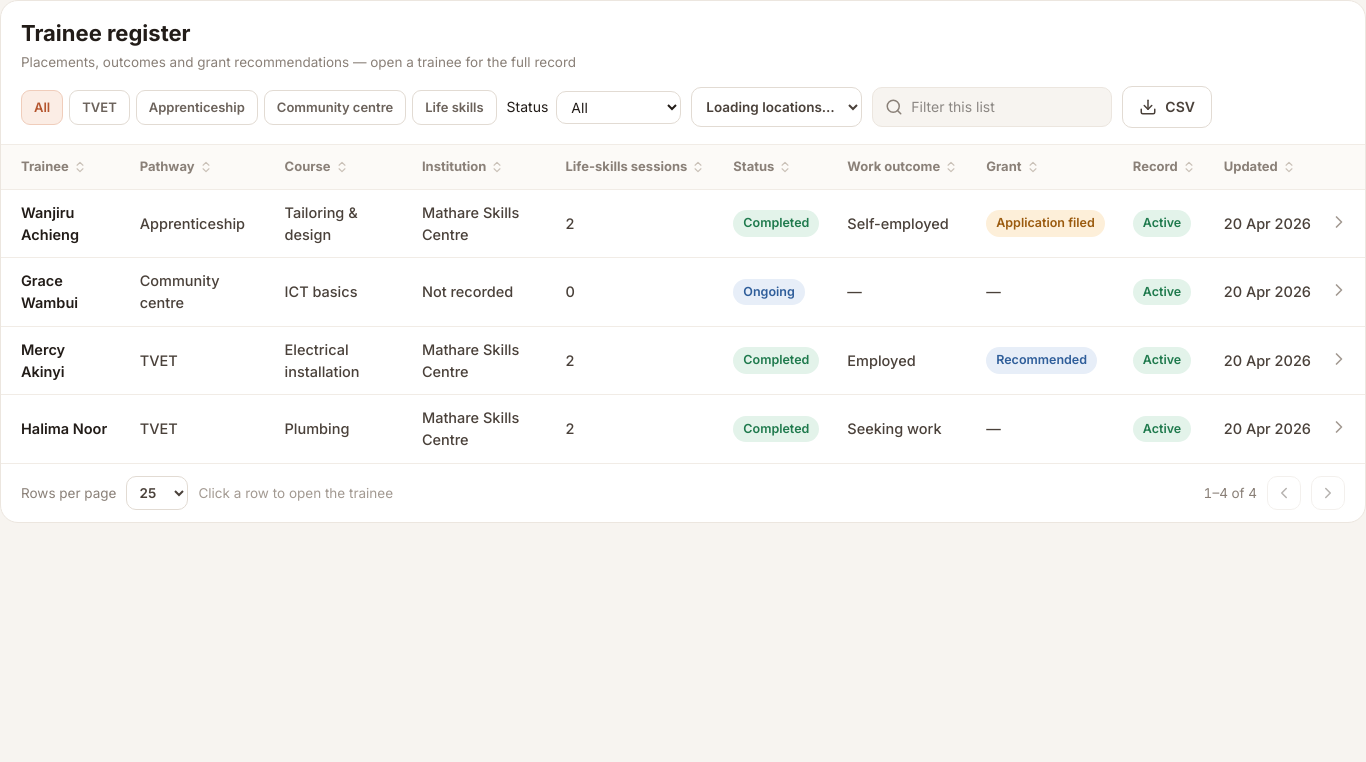
Test: trainee drawer › traces the hand-off and offers no recommend control once WEE accepted
Click the button named "Open Wanjiru Achieng" at (1339, 222), box [1327,210,1351,234]
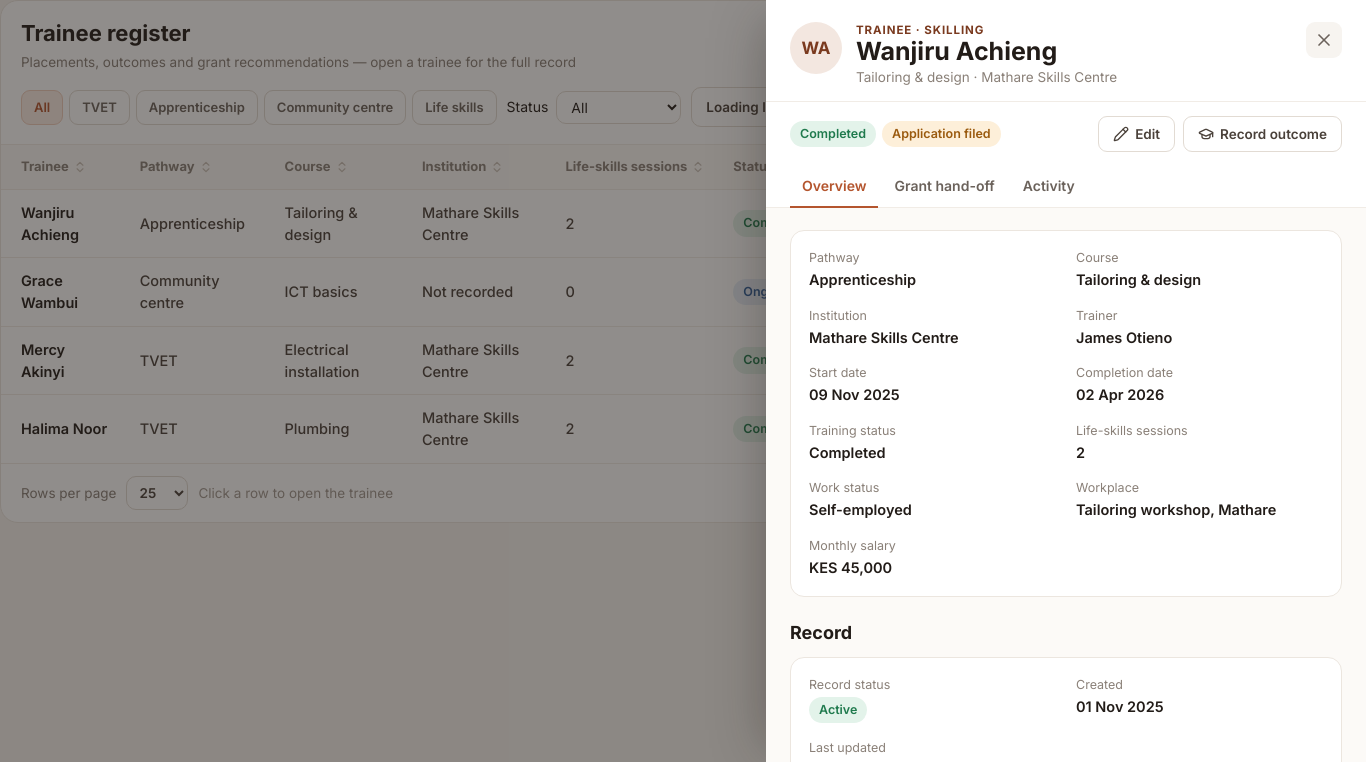
Click the tab "Grant hand-off" at (945, 187), box [882,166,1007,208]
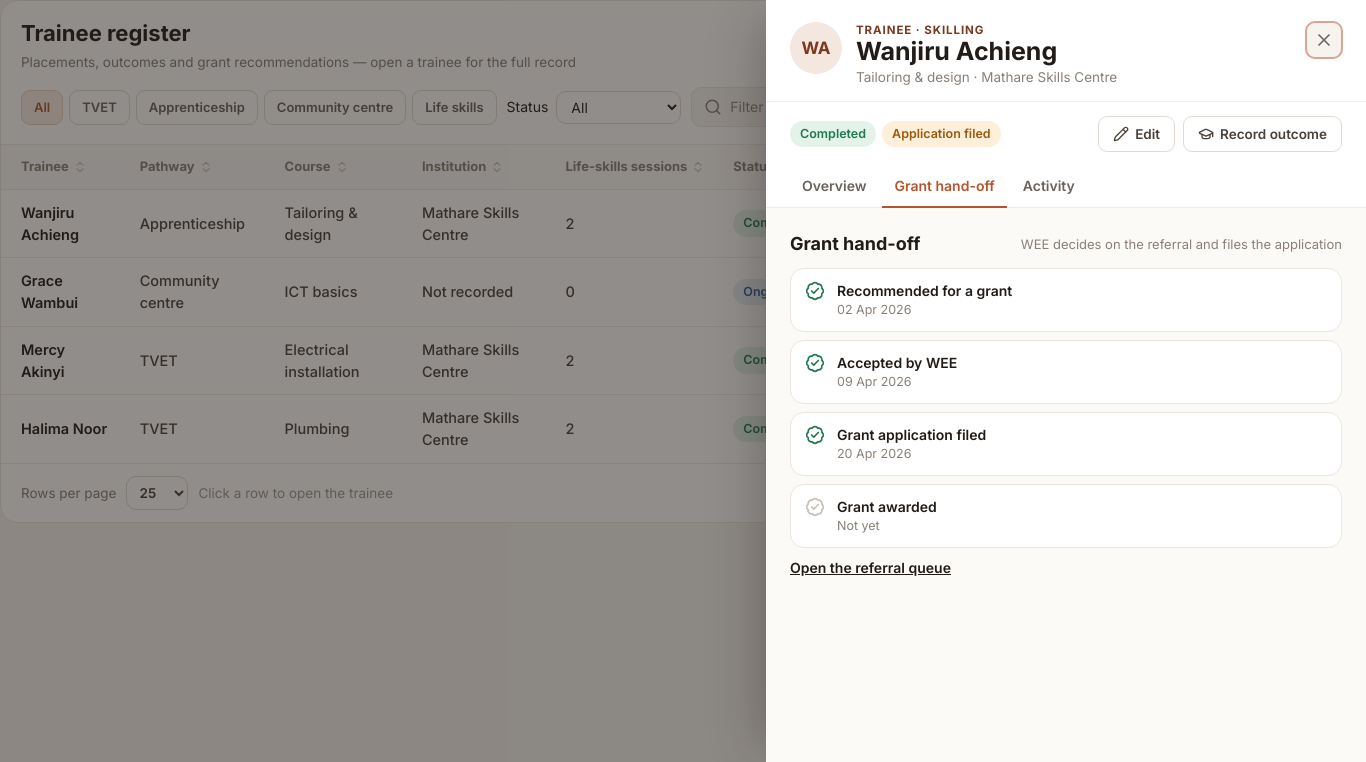
Check: the list named "Grant hand-off steps" shows "Accepted by WEE", box [837,354,957,371]
Check: the list named "Grant hand-off steps" shows "Grant application filed", box [837,426,986,443]
Check: the list named "Grant hand-off steps" shows "Grant awarded", box [837,498,937,515]
